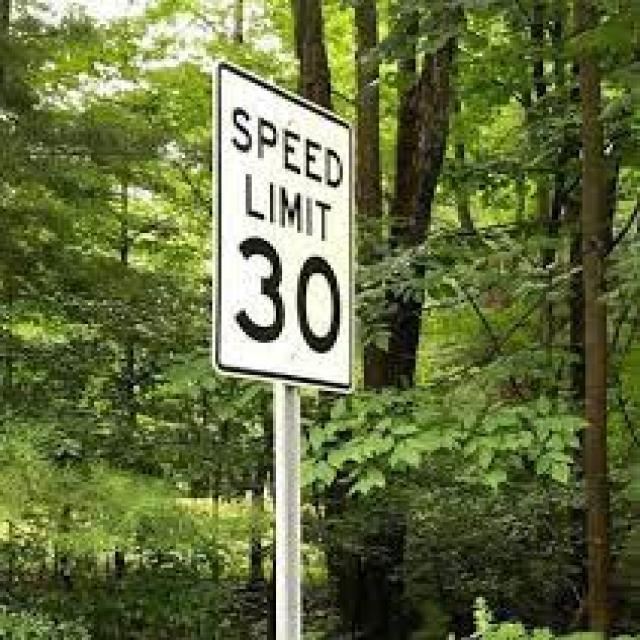speedLimit35: (215, 54, 355, 394)
